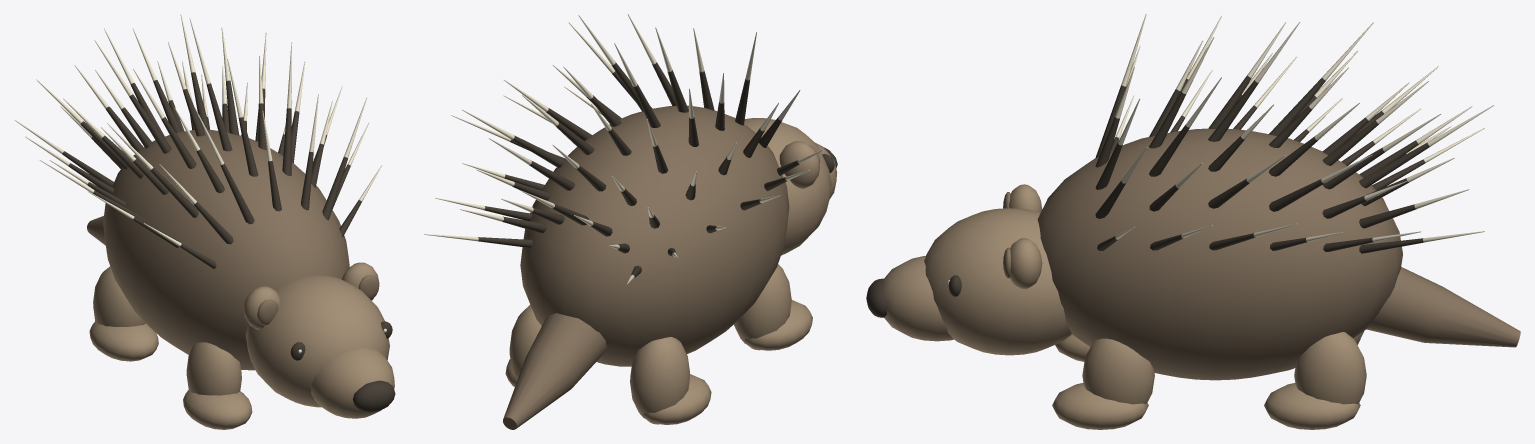
Rendered from animal_porcupine.glb.
3 renders of one model, left to right at view 1: azimuth 30°, elevation 25°; view 2: azimuth 150°, elevation 25°; view 3: azimuth 270°, elevation 25°, orthographic. The views are drawn at different scales.
Parts seen in each view (by area): view 1: Porcupine rounded body, Porcupine small head, Porcupine blunt muzzle, Porcupine short leg, Porcupine grounded paw, Porcupine grounded paw.001, Porcupine short leg.001, Porcupine dark nose, Porcupine rounded ear -1, Porcupine rounded ear 1, Porcupine quill 24 dark root, Porcupine quill 18 dark root (+18 smaller); view 2: Porcupine rounded body, Porcupine short tapering tail, Porcupine short leg.001, Porcupine small head, Porcupine short leg, Porcupine grounded paw.001, Porcupine grounded paw, Porcupine short leg.003, Porcupine rounded ear -1, Porcupine quill 27 dark root, Porcupine quill 33 dark root, Porcupine quill 20 dark root (+1 smaller); view 3: Porcupine rounded body, Porcupine small head, Porcupine short tapering tail, Porcupine short leg.003, Porcupine blunt muzzle, Porcupine short leg.002, Porcupine grounded paw.002, Porcupine grounded paw.003, Porcupine rounded ear 1, Porcupine rounded ear -1, Porcupine quill 39 dark root, Porcupine dark nose (+1 smaller).
Part boxes in pixels (<box>): Porcupine rounded body: <box>103,130,349,370</box>; Porcupine small head: <box>245,275,389,407</box>; Porcupine blunt muzzle: <box>311,348,394,418</box>; Porcupine short leg: <box>186,342,241,395</box>; Porcupine grounded paw: <box>183,390,252,429</box>; Porcupine grounded paw.001: <box>89,321,158,361</box>; Porcupine short leg.001: <box>93,266,145,326</box>; Porcupine dark nose: <box>352,380,395,412</box>; Porcupine rounded ear -1: <box>243,286,280,329</box>; Porcupine rounded ear 1: <box>342,262,379,300</box>; Porcupine quill 24 dark root: <box>129,94,171,153</box>; Porcupine quill 18 dark root: <box>206,83,232,151</box>; Porcupine rounded body: <box>520,105,789,366</box>; Porcupine short tapering tail: <box>503,313,607,429</box>; Porcupine short leg.001: <box>630,337,689,424</box>; Porcupine small head: <box>744,118,831,255</box>; Porcupine short leg: <box>733,264,791,350</box>; Porcupine grounded paw.001: <box>642,374,711,424</box>; Porcupine grounded paw: <box>744,300,812,350</box>; Porcupine short leg.003: <box>509,305,541,378</box>; Porcupine rounded ear -1: <box>779,141,819,188</box>; Porcupine quill 27 dark root: <box>512,135,565,168</box>; Porcupine quill 33 dark root: <box>529,160,574,190</box>; Porcupine quill 20 dark root: <box>546,108,591,140</box>; Porcupine rounded body: <box>1037,128,1402,380</box>; Porcupine small head: <box>924,208,1071,355</box>; Porcupine short tapering tail: <box>1366,267,1520,347</box>; Porcupine short leg.003: <box>1294,332,1366,404</box>; Porcupine blunt muzzle: <box>883,256,953,341</box>; Porcupine short leg.002: <box>1082,338,1154,404</box>; Porcupine grounded paw.002: <box>1052,383,1148,429</box>; Porcupine grounded paw.003: <box>1264,383,1360,429</box>; Porcupine rounded ear 1: <box>1009,238,1042,288</box>; Porcupine rounded ear -1: <box>1009,184,1042,212</box>; Porcupine quill 39 dark root: <box>1359,142,1429,188</box>; Porcupine dark nose: <box>866,278,886,317</box>.
Bounding box in the file's own units: 0.6552 × 0.6738 × 1.08.
